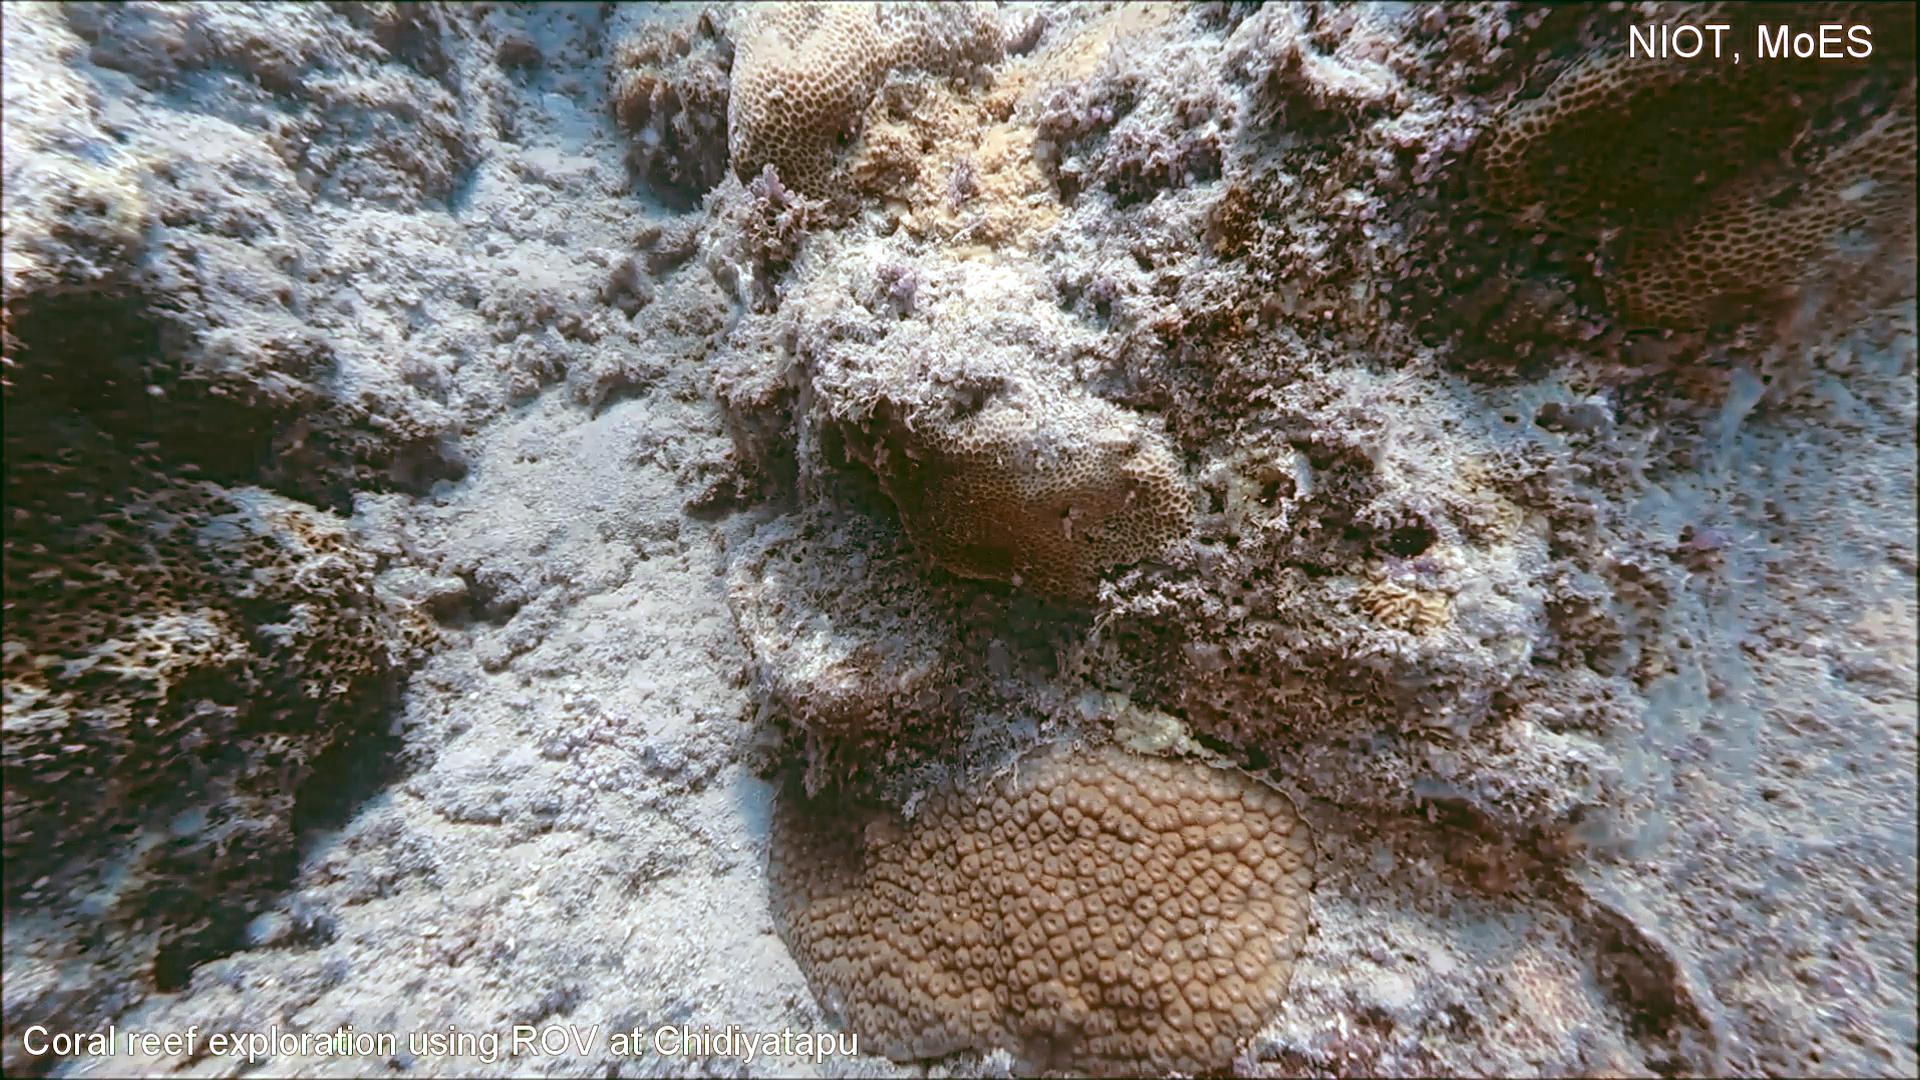Montastraea: (760, 708, 1331, 1080)
